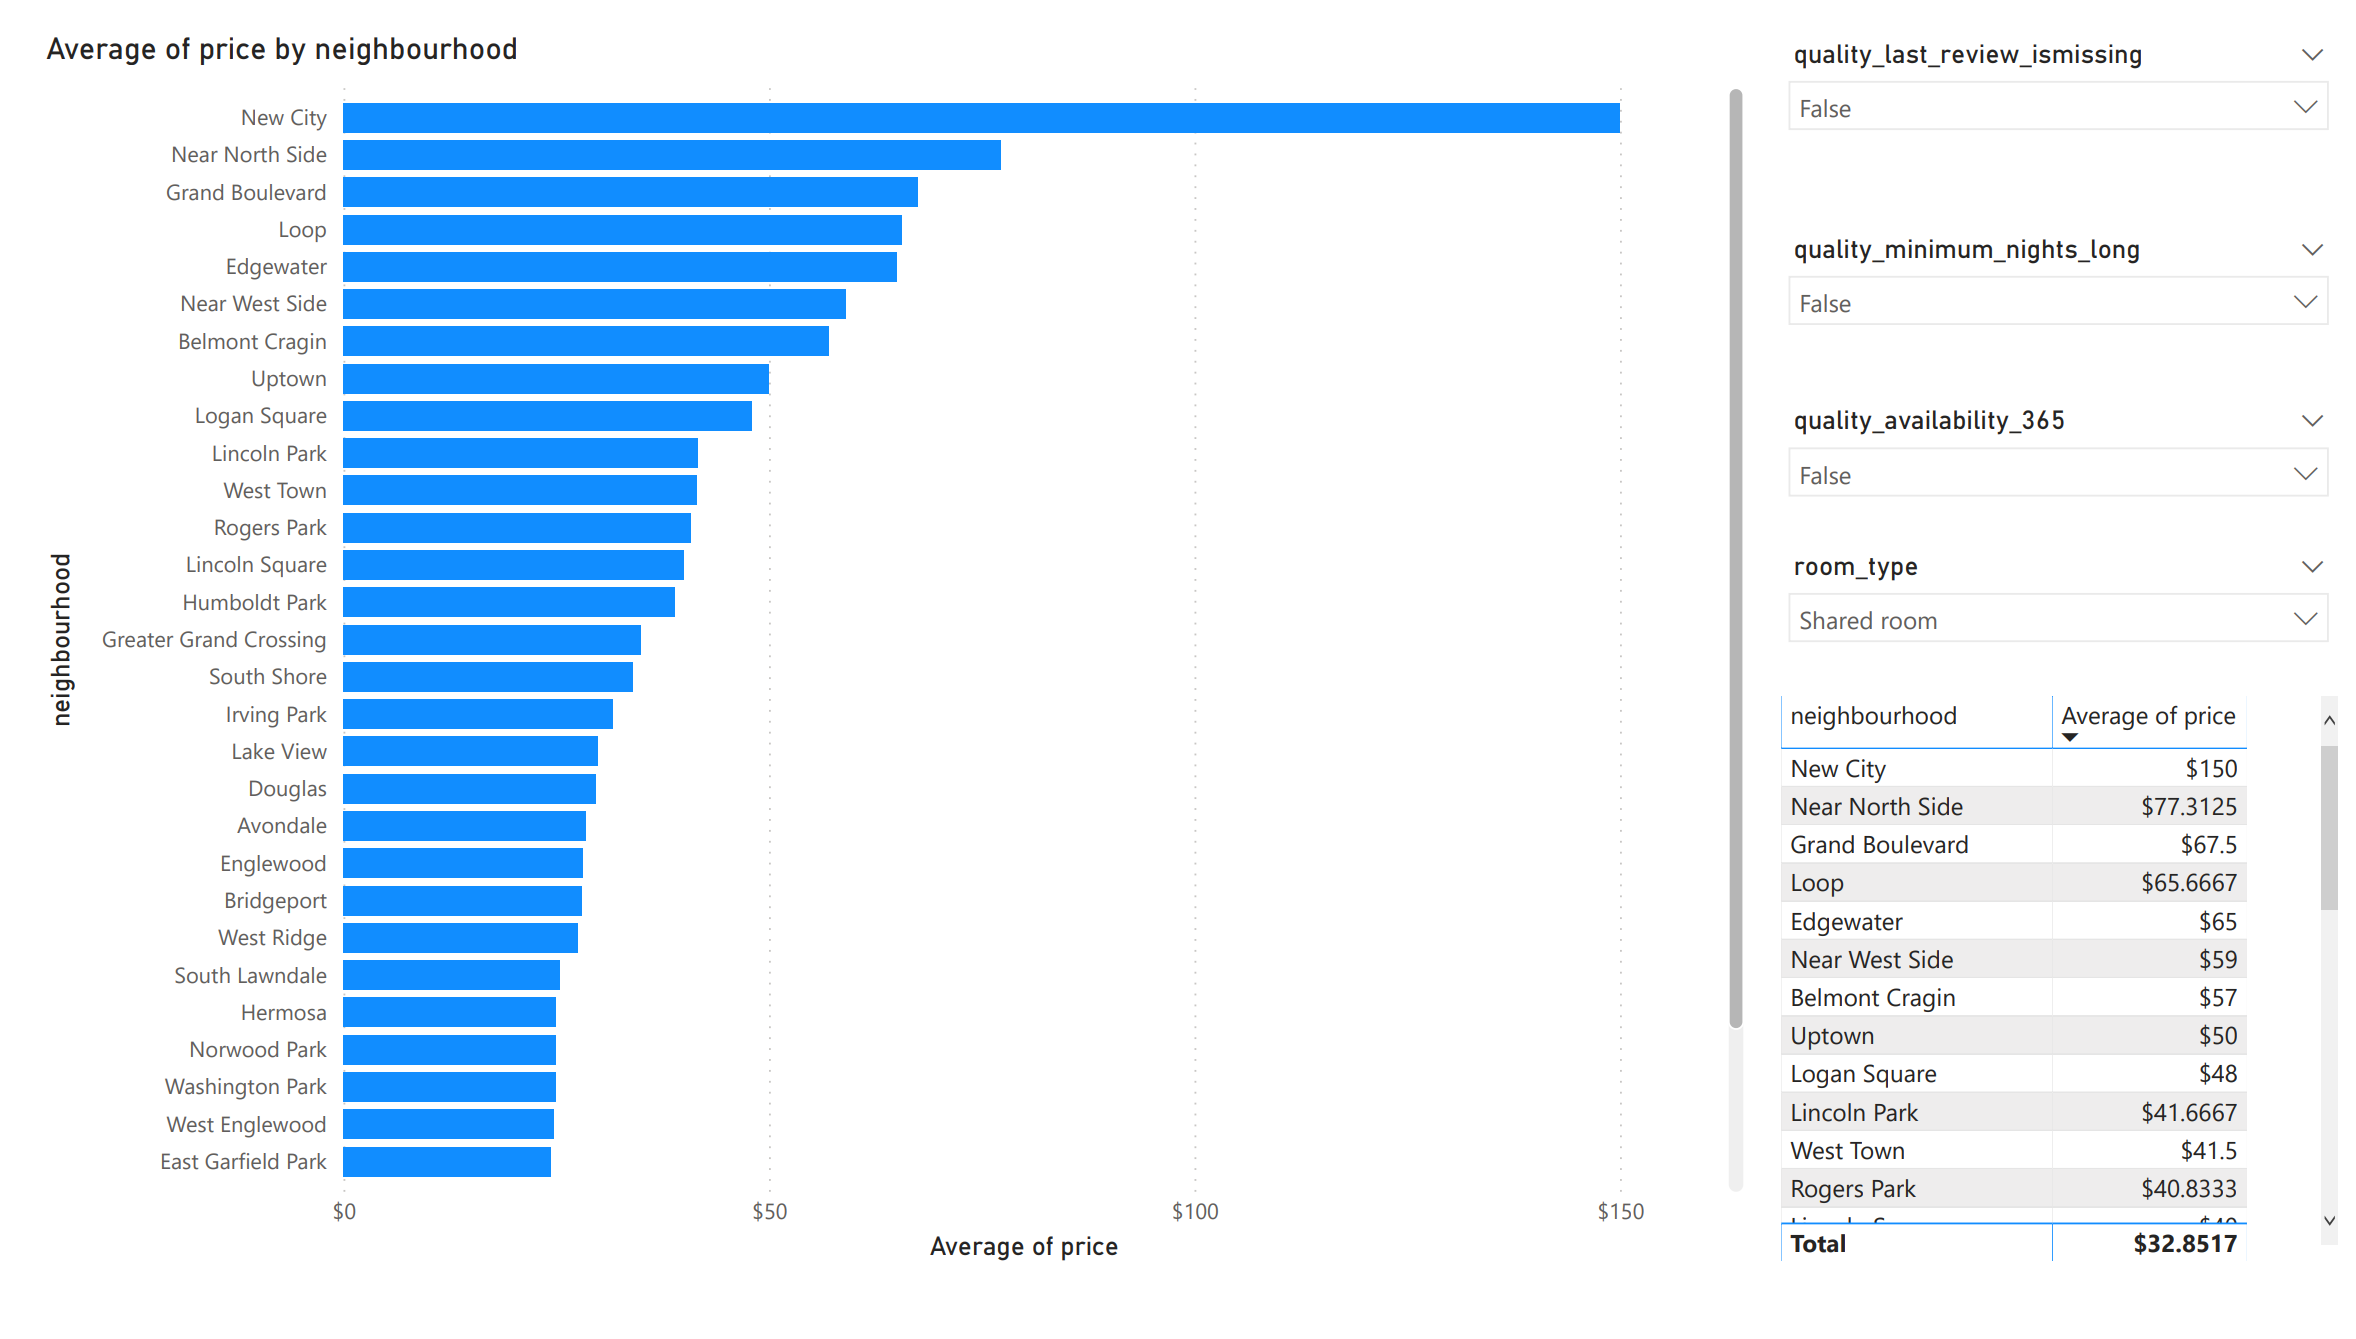

This screenshot's page, from the dashboard's own definition file:
{"tool":"powerbi","page":{"name":"Page 1","canvas":[1280,720],"ordinal":0},"visuals":[{"type":"clusteredBarChart","fields":{"Category":["airbnb_cleaned.neighbourhood"],"Y":["Avg(airbnb_cleaned.price)"]},"box":[10,0,942.9,681.4],"z":0},{"type":"slicer","fields":{"Values":["airbnb_cleaned.quality_last_review_ismissing"]},"box":[962.9,0,317.1,82.9],"z":1},{"type":"slicer","fields":{"Values":["airbnb_cleaned.quality_minimum_nights_long"]},"box":[962.9,107.1,317.1,94.3],"z":2},{"type":"slicer","fields":{"Values":["airbnb_cleaned.quality_availability_365"]},"box":[962.9,201.4,317.1,80],"z":3},{"type":"slicer","fields":{"Values":["airbnb_cleaned.room_type"]},"box":[962.9,281.4,317.1,80],"z":4},{"type":"tableEx","fields":{"Values":["airbnb_cleaned.neighbourhood","Avg(airbnb_cleaned.price)"]},"box":[963,361,317,320],"z":5}]}

Visuals, with their boxes in screenshot pixels (x1, y1, x2, y2), scaled from the page's 1280x720 canvas onto the 2356x1339 screenshot:
clusteredBarChart - airbnb_cleaned.neighbourhood x Avg(airbnb_cleaned.price): [x1=18, y1=0, x2=1754, y2=1267]
slicer - airbnb_cleaned.quality_last_review_ismissing: [x1=1772, y1=0, x2=2355, y2=154]
slicer - airbnb_cleaned.quality_minimum_nights_long: [x1=1772, y1=199, x2=2355, y2=375]
slicer - airbnb_cleaned.quality_availability_365: [x1=1772, y1=375, x2=2355, y2=523]
slicer - airbnb_cleaned.room_type: [x1=1772, y1=523, x2=2355, y2=672]
tableEx - airbnb_cleaned.neighbourhood x Avg(airbnb_cleaned.price): [x1=1773, y1=671, x2=2355, y2=1266]
